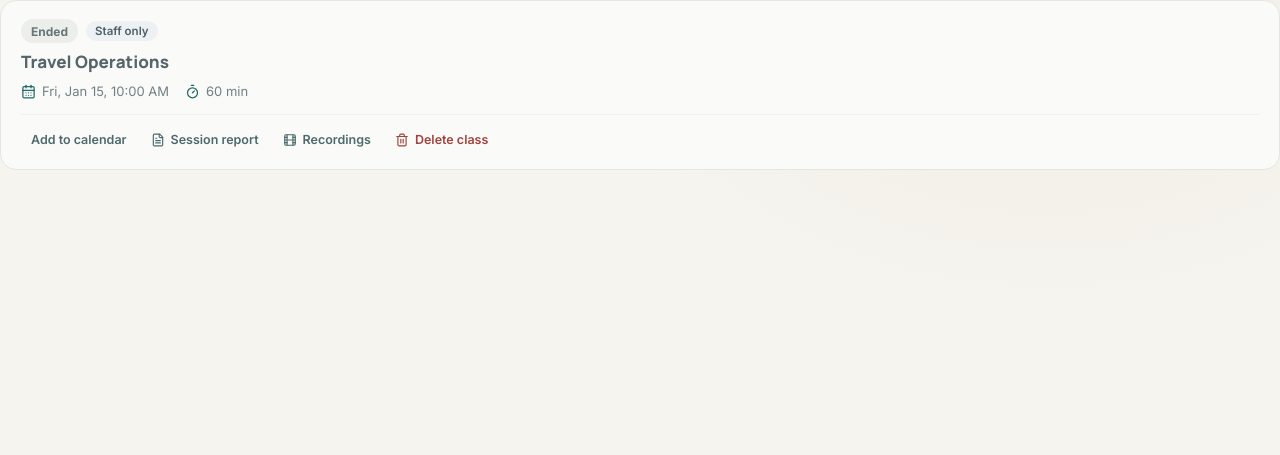
Test: ClassCard recordings › renders the session report for staff-only classes without course or cohort relations
Step 1. Click the button "Session report" → (204, 140), box left=140, top=125, right=268, bottom=155
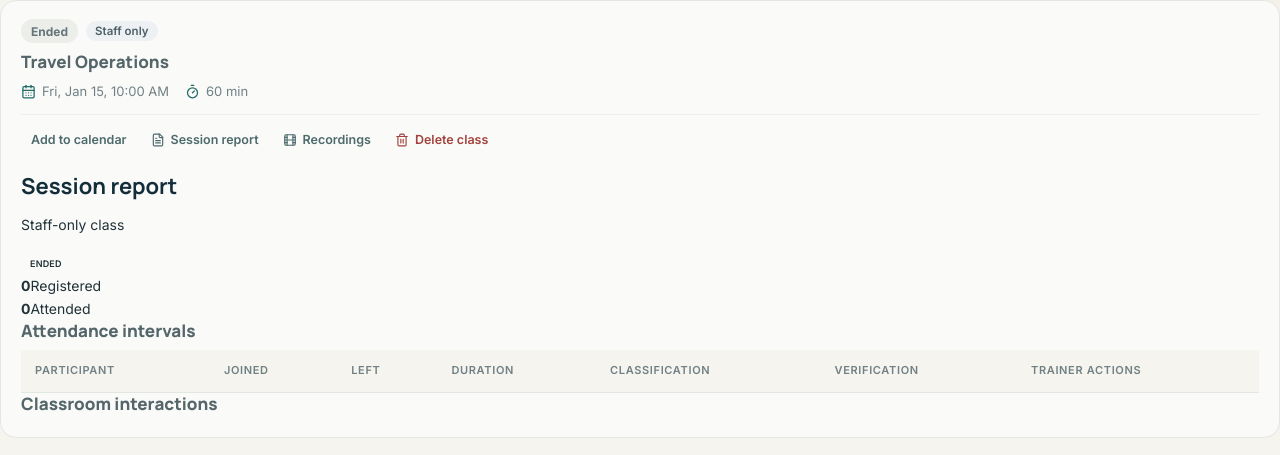
Result: the text "Staff-only class" is shown at left=21, top=216, right=124, bottom=233
